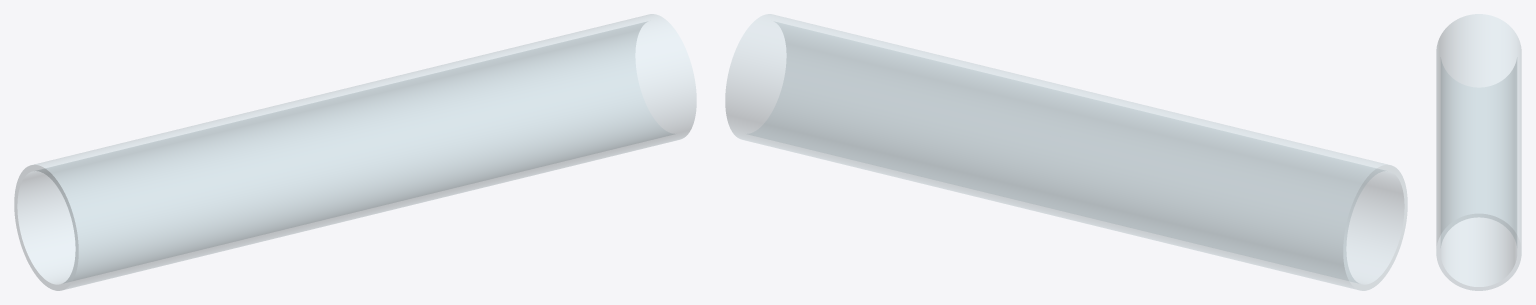
File: tubo_p1.glb
The picture shows the model from 3 angles, left to right: view 1: azimuth 30°, elevation 25°; view 2: azimuth 150°, elevation 25°; view 3: azimuth 270°, elevation 25°; orthographic projection. The views are drawn at different scales.
Parts seen in each view (by area): view 1: tubo_p1; view 2: tubo_p1; view 3: tubo_p1.
Boxes of the visible parts, x1,y1,x2,y2 form: tubo_p1: (14,14,696,290); tubo_p1: (725,14,1407,290); tubo_p1: (1436,14,1521,290).
Bounding box in the file's own units: 221 × 39.98 × 39.99.
